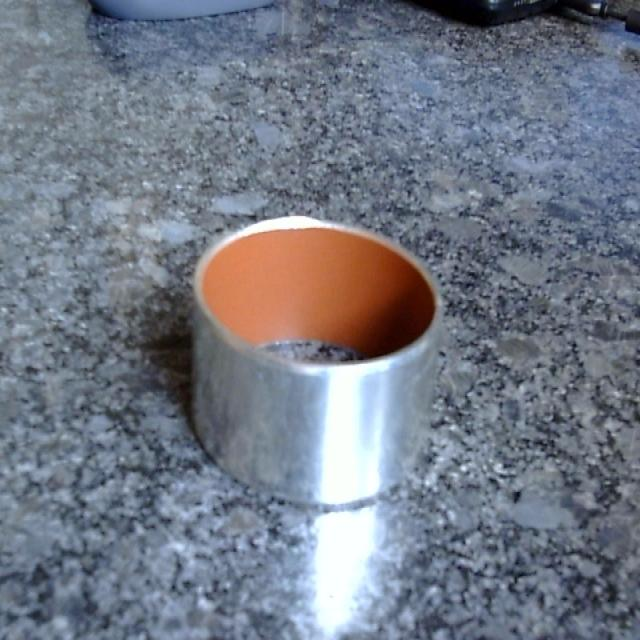steel-ring: (192, 217, 442, 505)
